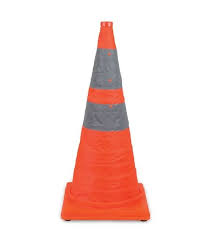cones: (56, 20, 152, 220)
